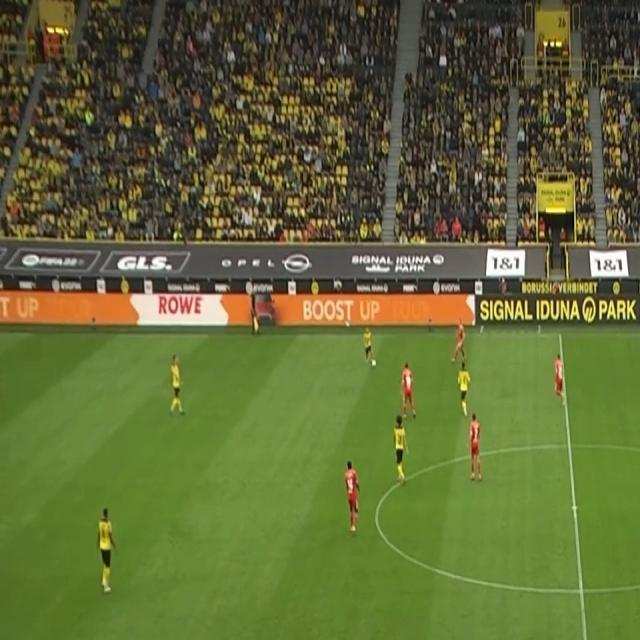ball: (372, 358, 378, 369)
